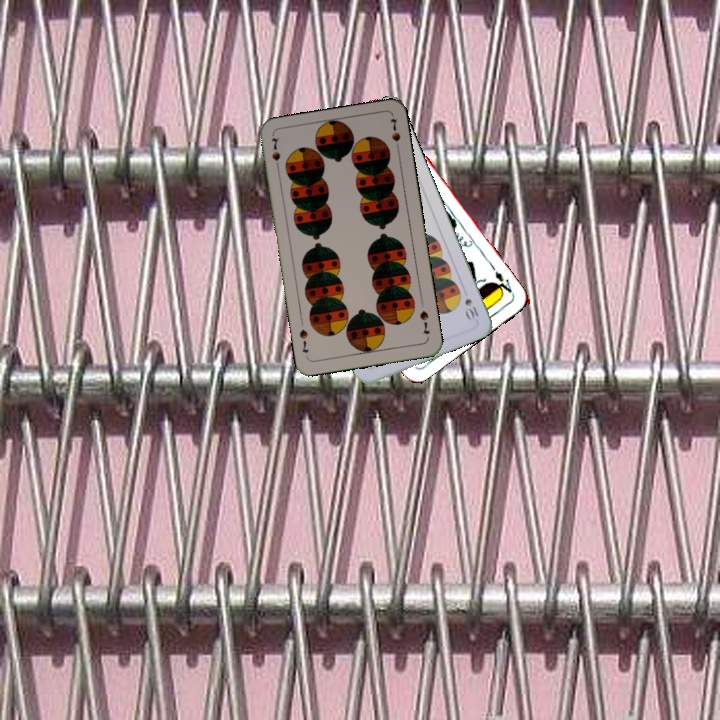EA: (490, 267, 516, 298)
S10: (461, 294, 481, 322)
S7: (267, 133, 283, 173), (416, 307, 433, 337)
